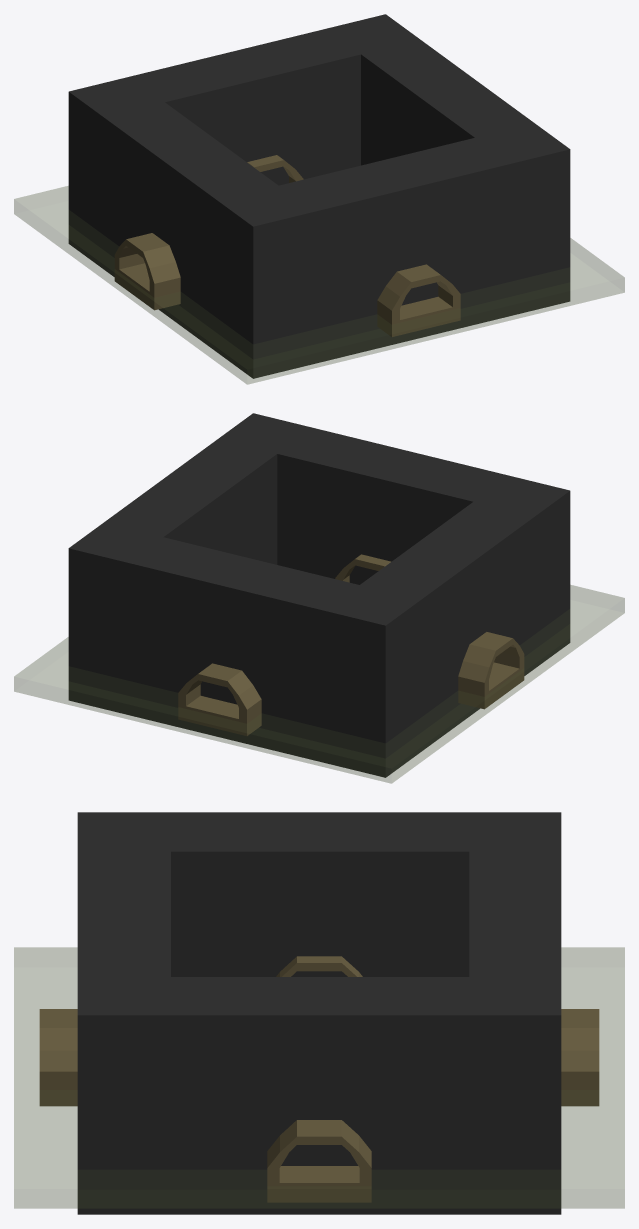
The model's file is 4Ways.fbx.
The picture shows the model from 3 angles, top to bottom: view 1: azimuth 30°, elevation 25°; view 2: azimuth 150°, elevation 25°; view 3: azimuth 270°, elevation 25°; orthographic projection. The views are drawn at different scales.
Parts seen in each view (by area): view 1: wall, Water, Tunnel4, Tunnel, Tunnel2; view 2: wall, Water, Tunnel2, Tunnel, Tunnel4; view 3: wall, Water, Tunnel3, Tunnel4, Tunnel2, Tunnel.
Part boxes in pixels (x1,y1,x2,y2): wall: (68,14,570,378); Water: (14,186,624,384); Tunnel4: (377,264,460,336); Tunnel: (114,233,180,310); Tunnel2: (247,155,303,182); wall: (68,413,570,777); Water: (14,585,624,783); Tunnel2: (178,663,261,735); Tunnel: (458,632,524,709); Tunnel4: (335,554,390,582); wall: (77,812,561,1214); Water: (14,947,624,1208); Tunnel3: (267,1120,371,1202); Tunnel4: (39,1009,77,1106); Tunnel2: (561,1009,599,1106); Tunnel: (276,956,362,976).
Size of the model in its own units: 28.78 by 11.08 by 30.78.
